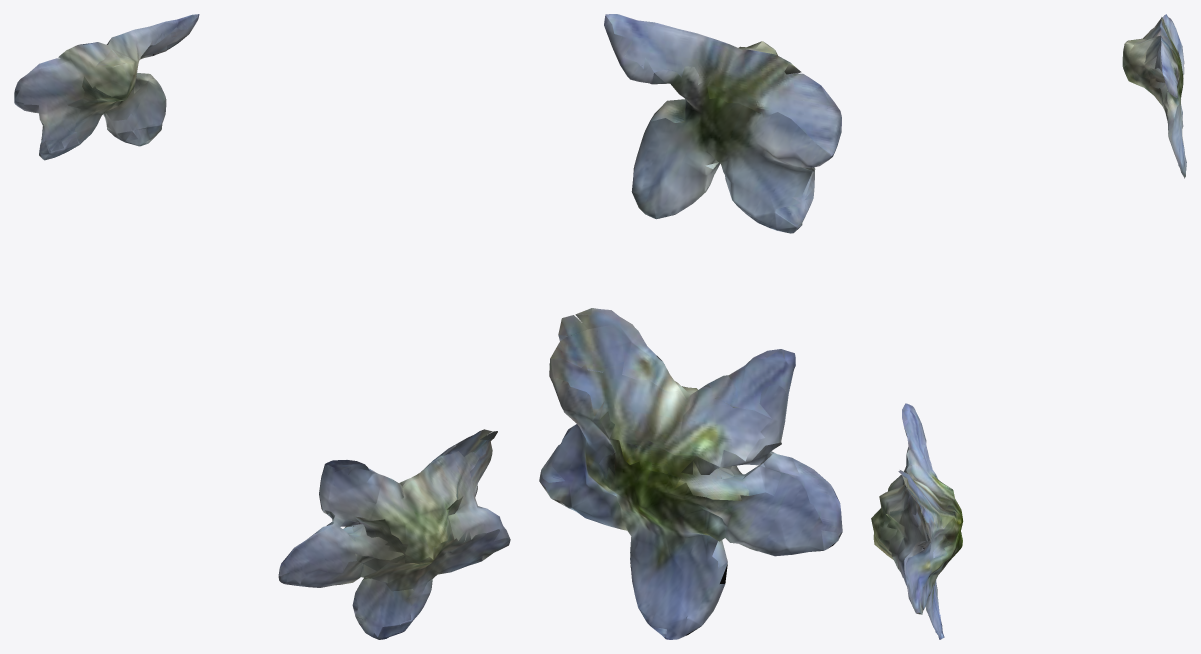
File: kalonji.glb
3 renders of one model, left to right at view 1: azimuth 30°, elevation 25°; view 2: azimuth 150°, elevation 25°; view 3: azimuth 270°, elevation 25°, orthographic. The views are drawn at different scales.
Visible parts, largest first — view 1: world; view 2: world; view 3: world.
Boxes of the visible parts, x1=… form: world: x1=14, y1=14, x2=510, y2=639; world: x1=539, y1=14, x2=842, y2=639; world: x1=871, y1=14, x2=1186, y2=639.
Bounding box in the file's own units: 0.5626 × 0.8416 × 0.4539.
1 material, 1 textured.
